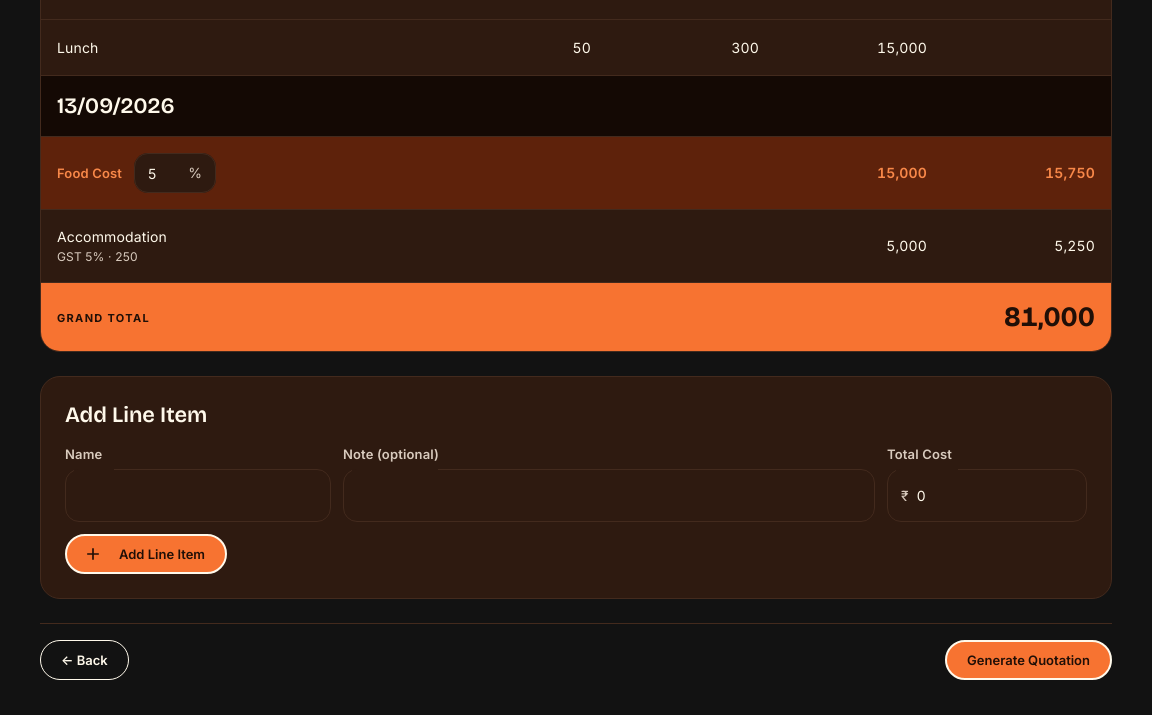
Test: ReviewStep › blocks submission when a Client Contact has a name but no contact number
(page scrolled)
Click the button "Generate Quotation": (1029, 660) top-left (945, 640), bottom-right (1112, 680)
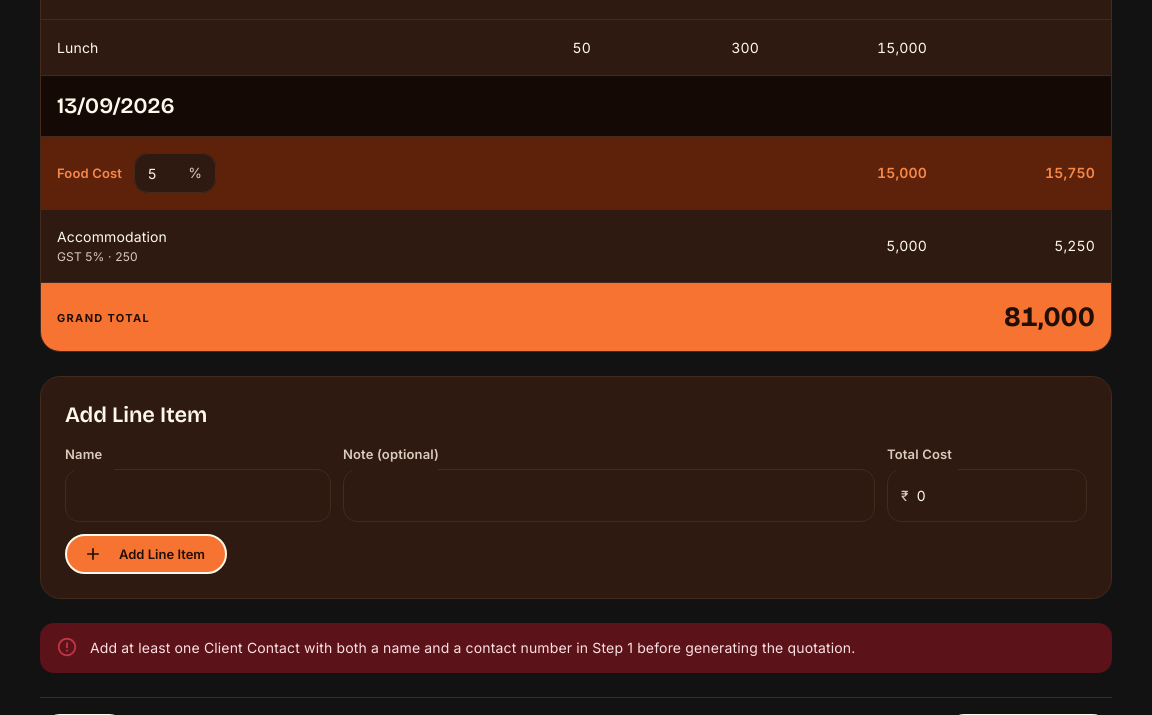
Check: the text "Add at least one Client Contact with both a name and a contact number in Step 1 before generating the quotation." is shown, box top-left (90, 639), bottom-right (856, 656)
